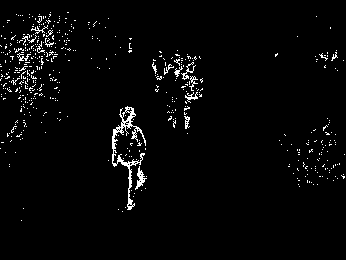person: (110, 104, 149, 211), (163, 52, 187, 129), (180, 63, 206, 133), (151, 49, 167, 92)
